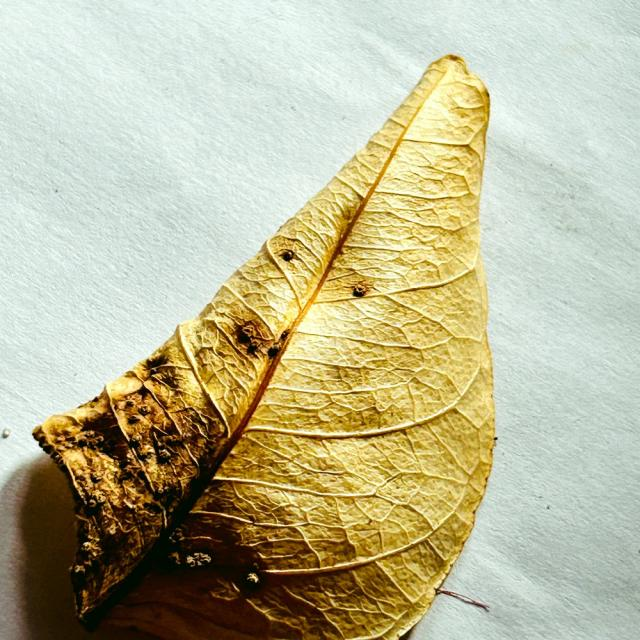DryLeaf_Lemon: (33, 56, 493, 639)
